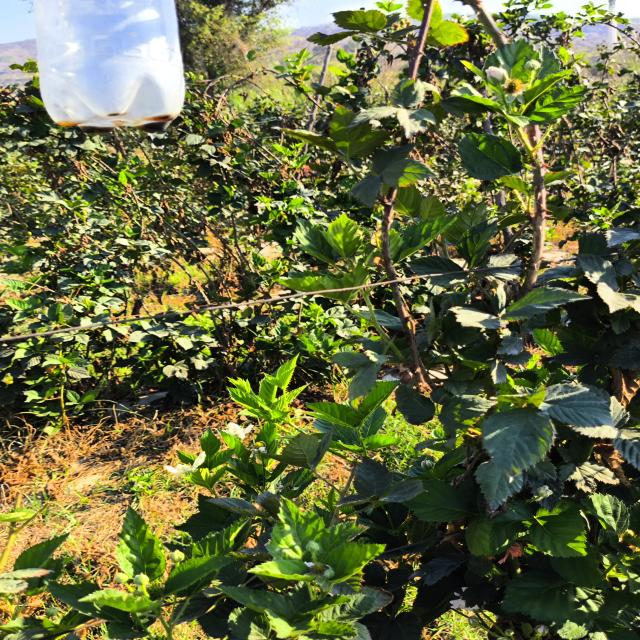boton: (486, 66, 508, 84), (524, 60, 541, 71)
